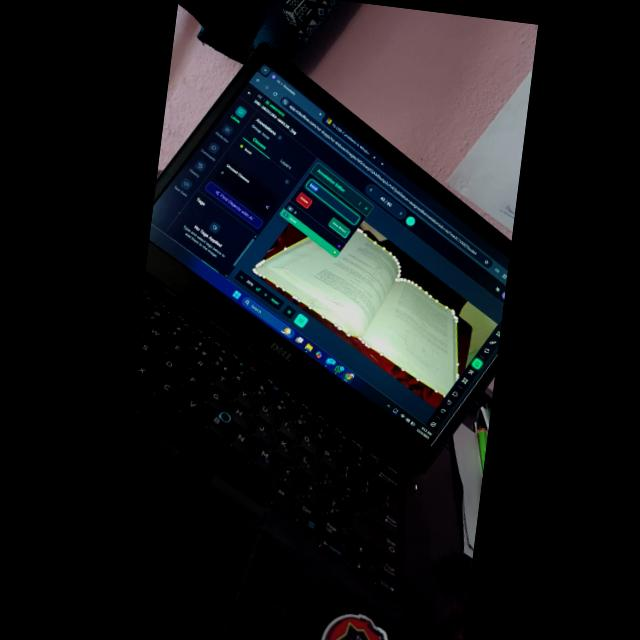laptop: (102, 29, 531, 640)
